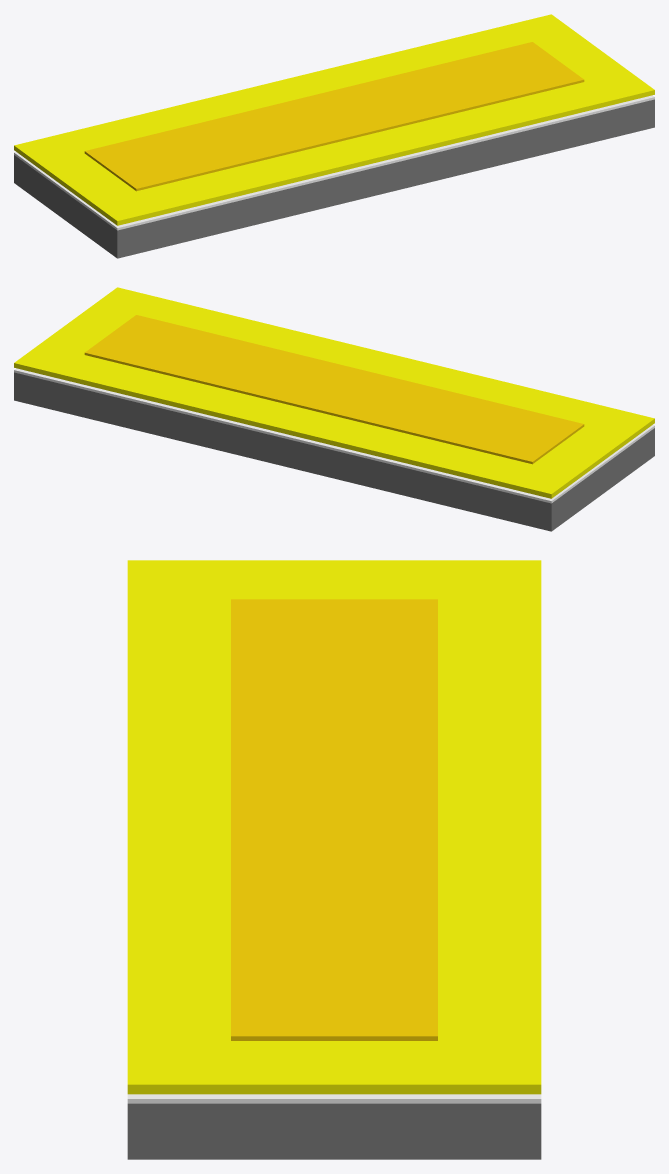
The model's file is Chữ inox vàng gương 304.obj.
3 renders of one model, top to bottom at view 1: azimuth 30°, elevation 25°; view 2: azimuth 150°, elevation 25°; view 3: azimuth 270°, elevation 25°, orthographic. The views are drawn at different scales.
Parts seen in each view (by area): view 1: den_led, chu_noi_3d, khung_sat_do, be_mat_bien; view 2: den_led, chu_noi_3d, khung_sat_do, be_mat_bien; view 3: den_led, chu_noi_3d, khung_sat_do, be_mat_bien.
Boxes of the visible parts, x1,y1,x2,y2 form: den_led: (14,14,654,225); chu_noi_3d: (84,42,584,191); khung_sat_do: (14,99,654,258); be_mat_bien: (14,95,654,230); den_led: (14,287,654,498); chu_noi_3d: (84,315,584,464); khung_sat_do: (14,372,654,531); be_mat_bien: (14,368,654,503); den_led: (127,560,541,1094); chu_noi_3d: (231,599,437,1040); khung_sat_do: (127,1103,541,1159); be_mat_bien: (127,1094,541,1103).
Size of the model in its own units: 1.2 by 0.085 by 0.4.
